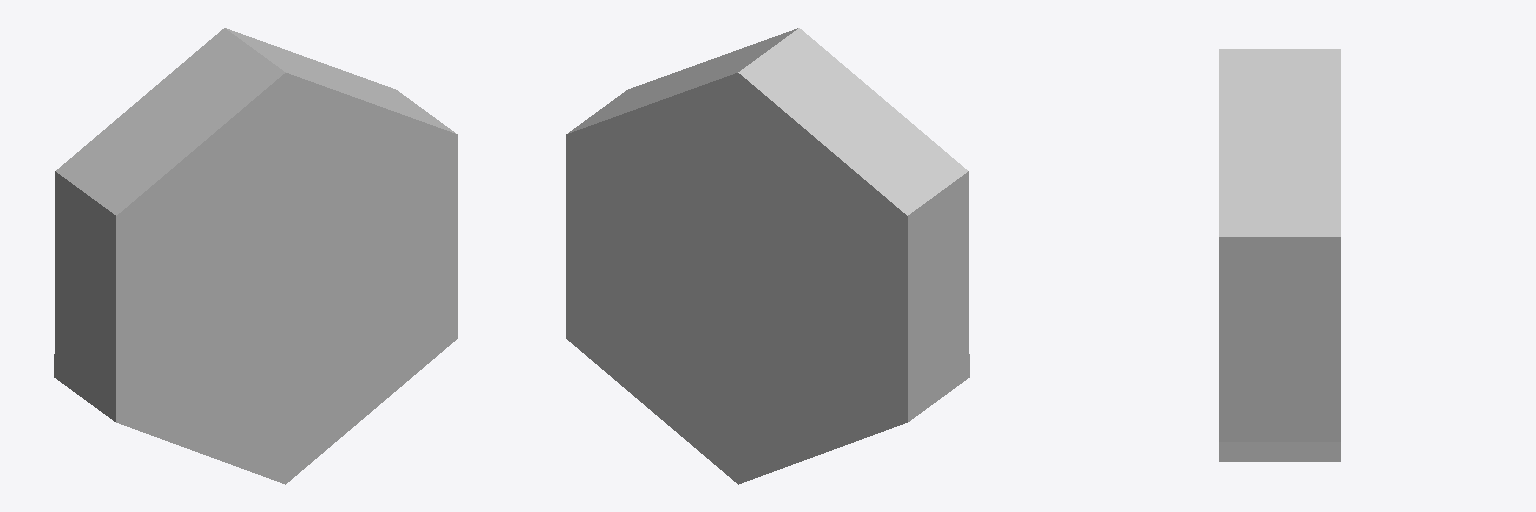
The model's file is hexMeshCopy2.obj.
The picture shows the model from 3 angles: view 1: azimuth 30°, elevation 25°; view 2: azimuth 150°, elevation 25°; view 3: azimuth 270°, elevation 25°; orthographic projection.
Visible parts, largest first — view 1: Object.1; view 2: Object.1; view 3: Object.1.
Boxes of the visible parts, x1=… form: Object.1: x1=54, y1=28, x2=457, y2=484; Object.1: x1=566, y1=28, x2=969, y2=484; Object.1: x1=1219, y1=49, x2=1340, y2=461.
Bounding box in the file's own units: 50 × 57.59 × 15.49.